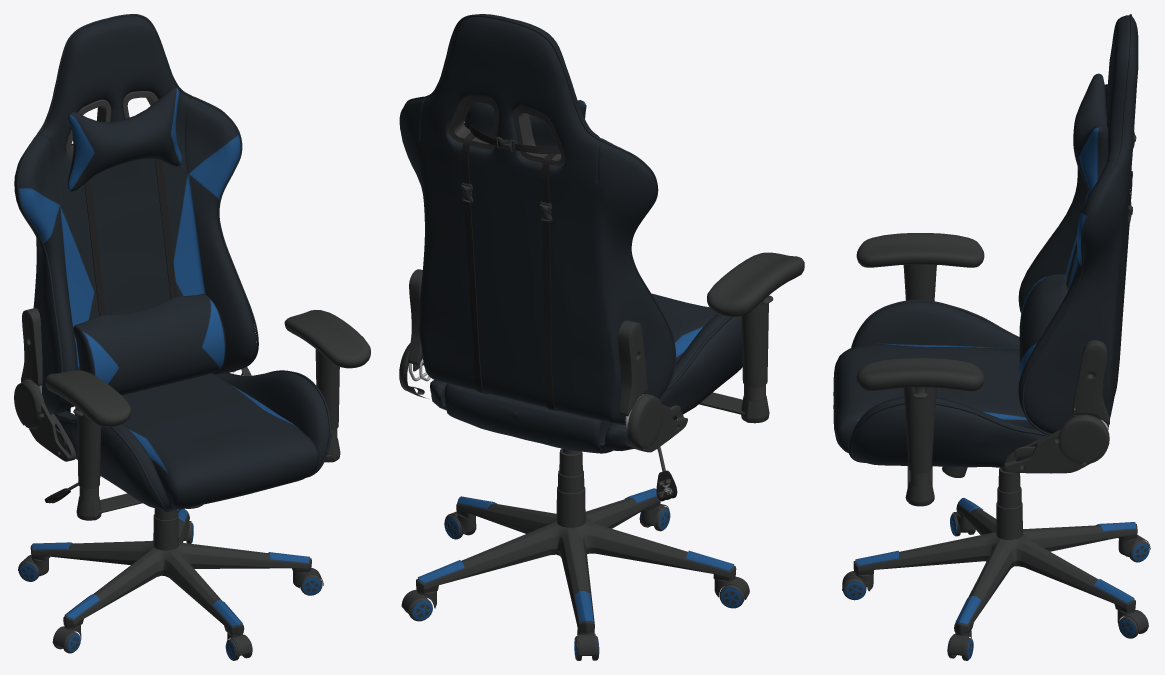
File: office_chair_B07HJ66BLL.glb
The picture shows the model from 3 angles, left to right: view 1: azimuth 30°, elevation 25°; view 2: azimuth 150°, elevation 25°; view 3: azimuth 270°, elevation 25°; orthographic projection. The views are drawn at different scales.
Visible parts, largest first — view 1: Root; view 2: Root; view 3: Root.
Boxes of the visible parts, x1=… form: Root: x1=14, y1=14, x2=370, y2=660; Root: x1=399, y1=14, x2=804, y2=660; Root: x1=833, y1=14, x2=1150, y2=660.
Size of the model in its own units: 0.6963 by 1.29 by 0.6507.
1 material, 1 textured.
